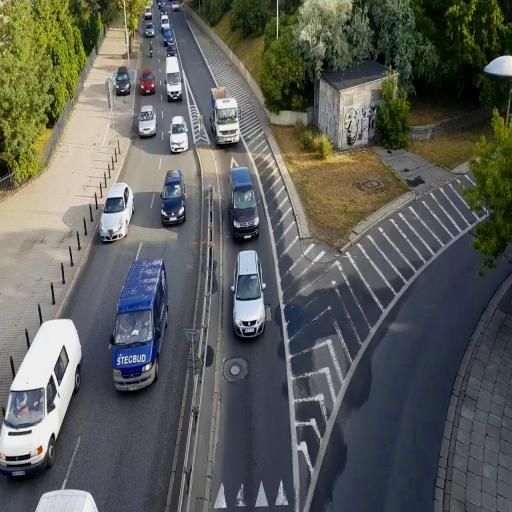vehicle: (0, 316, 83, 478), (110, 249, 169, 392), (232, 250, 266, 339), (230, 163, 260, 242), (99, 182, 134, 244), (35, 489, 99, 512), (163, 169, 186, 226), (169, 116, 189, 154), (138, 107, 156, 139), (138, 69, 156, 95), (114, 68, 131, 95), (143, 19, 155, 38)
